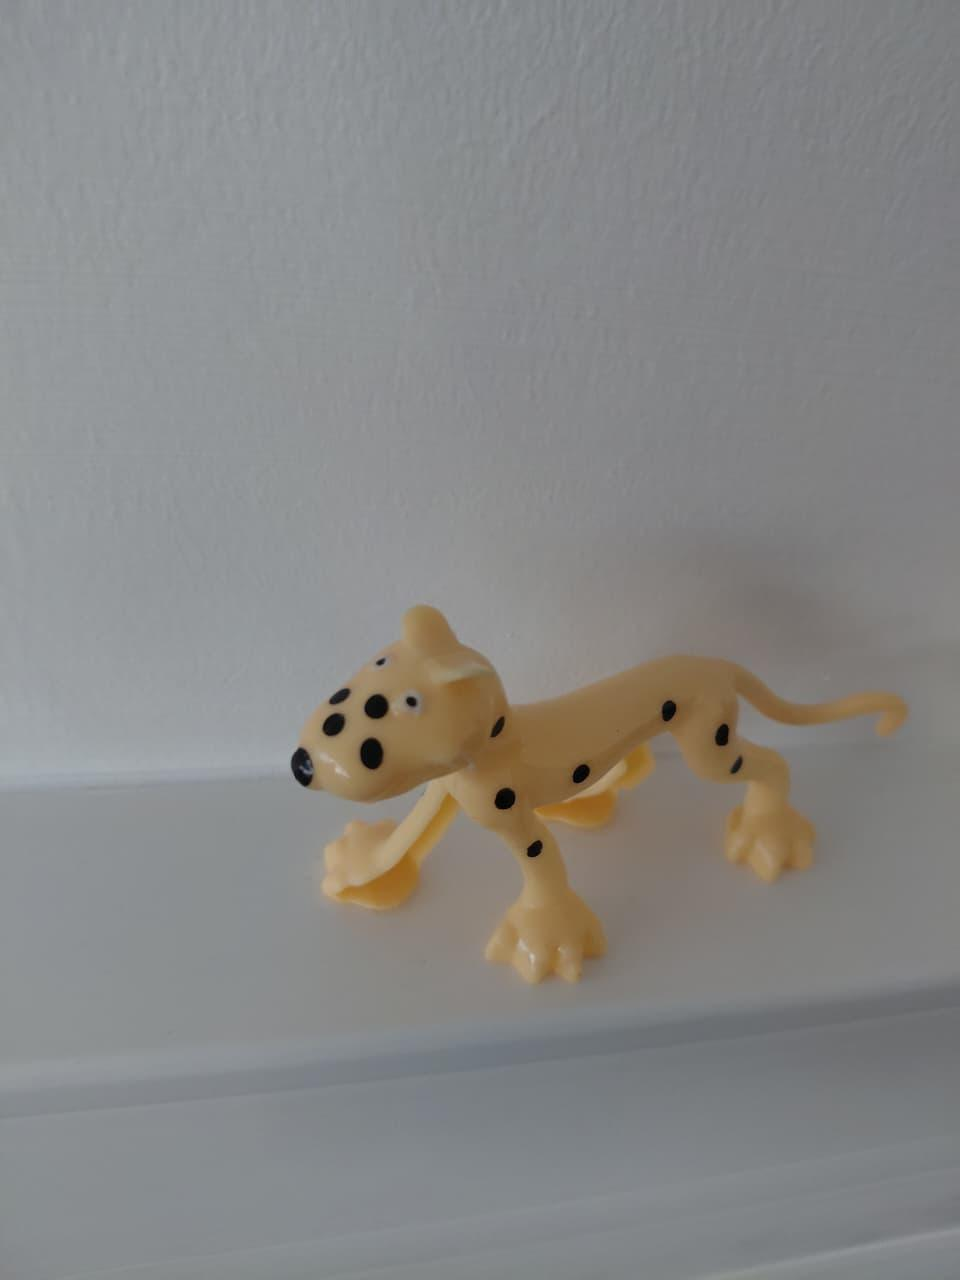cheetah: (272, 578, 922, 1021)
